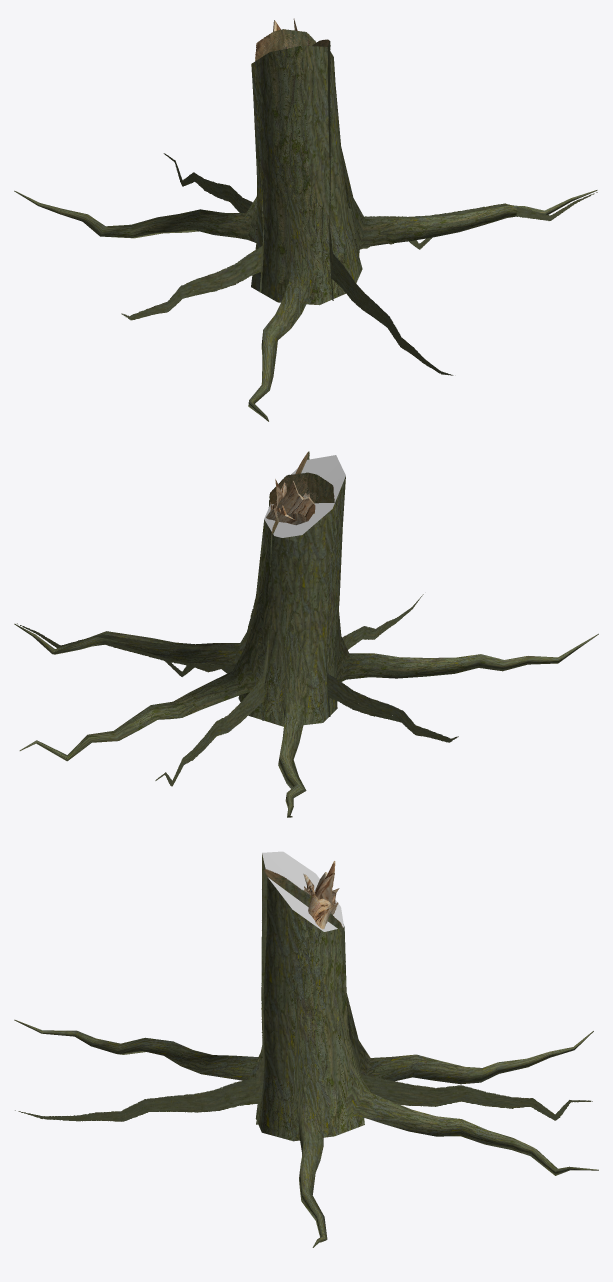
File: Stump4.fbx
3 renders of one model, top to bottom at view 1: azimuth 30°, elevation 25°; view 2: azimuth 150°, elevation 25°; view 3: azimuth 270°, elevation 25°, orthographic. The views are drawn at different scales.
Parts seen in each view (by area): view 1: LOD0, Billboard; view 2: LOD0, Billboard; view 3: LOD0, Billboard.
Boxes of the visible parts, x1,y1,x2,y2 form: LOD0: [14, 20, 597, 421]; Billboard: [121, 18, 597, 375]; LOD0: [14, 455, 598, 817]; Billboard: [17, 451, 458, 786]; LOD0: [14, 851, 598, 1247]; Billboard: [15, 869, 592, 1124].
Size of what is drawn, in the model's own units: 213 by 111 by 227.
